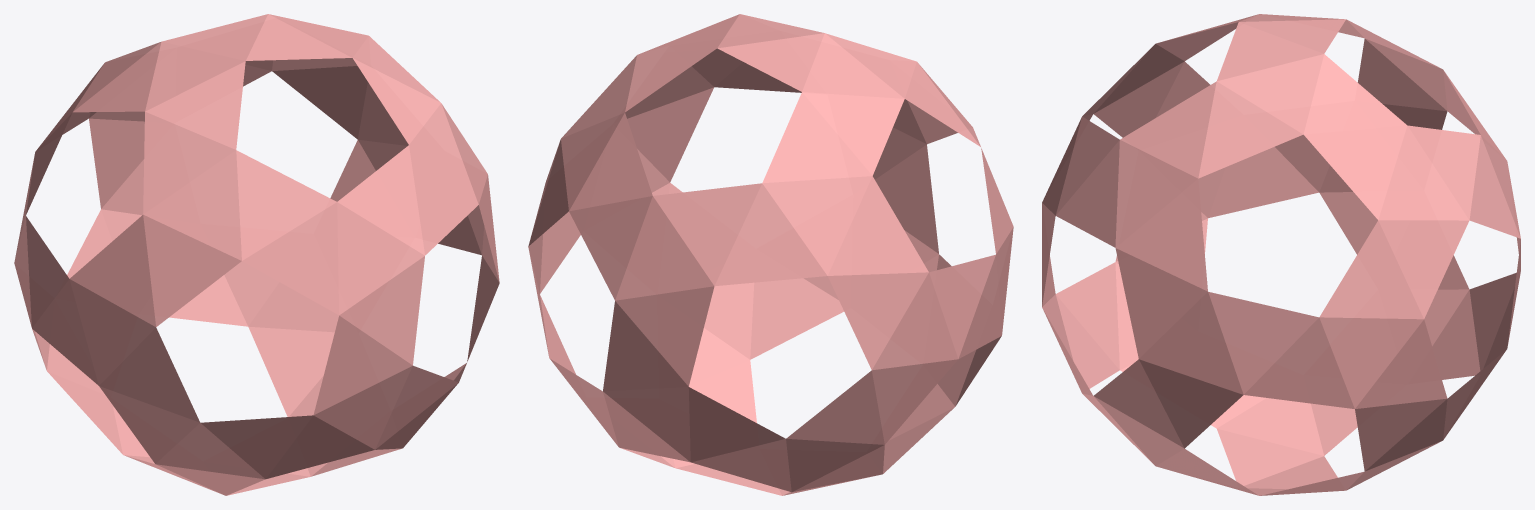
Rendered from SnubDodecahedronA.obj.
3 renders of one model, left to right at view 1: azimuth 30°, elevation 25°; view 2: azimuth 150°, elevation 25°; view 3: azimuth 270°, elevation 25°, orthographic.
Bounding box in the file's own units: 4.19 × 4.19 × 4.19.
